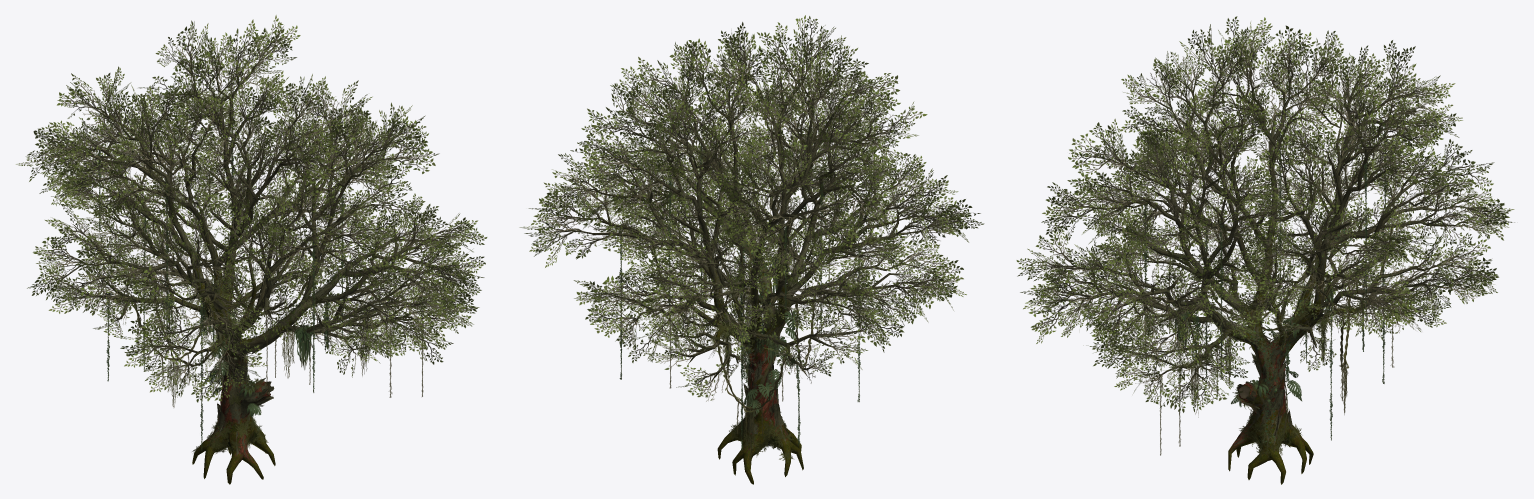
Rendered from tree_gn.glb.
3 views of the same model, side by side, from view 1: azimuth 30°, elevation 25°; view 2: azimuth 150°, elevation 25°; view 3: azimuth 270°, elevation 25° (orthographic). The views are drawn at different scales.
Visible parts, largest first — view 1: TreeGen; view 2: TreeGen; view 3: TreeGen.
Boxes of the visible parts, x1=… form: TreeGen: x1=16, y1=15, x2=487, y2=484; TreeGen: x1=519, y1=15, x2=984, y2=484; TreeGen: x1=1016, y1=16, x2=1514, y2=484.
Size of the model in its own units: 21.13 by 22.48 by 24.06.
6 materials, 6 textured.
